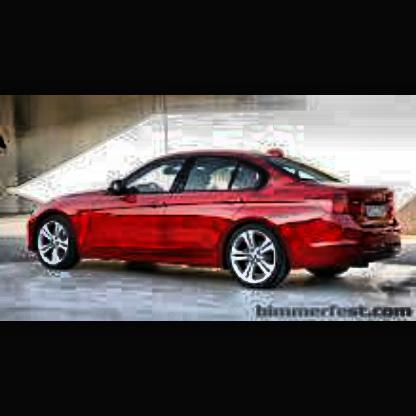BMW 3 Series Sedan 2012: (27, 150, 405, 294)
